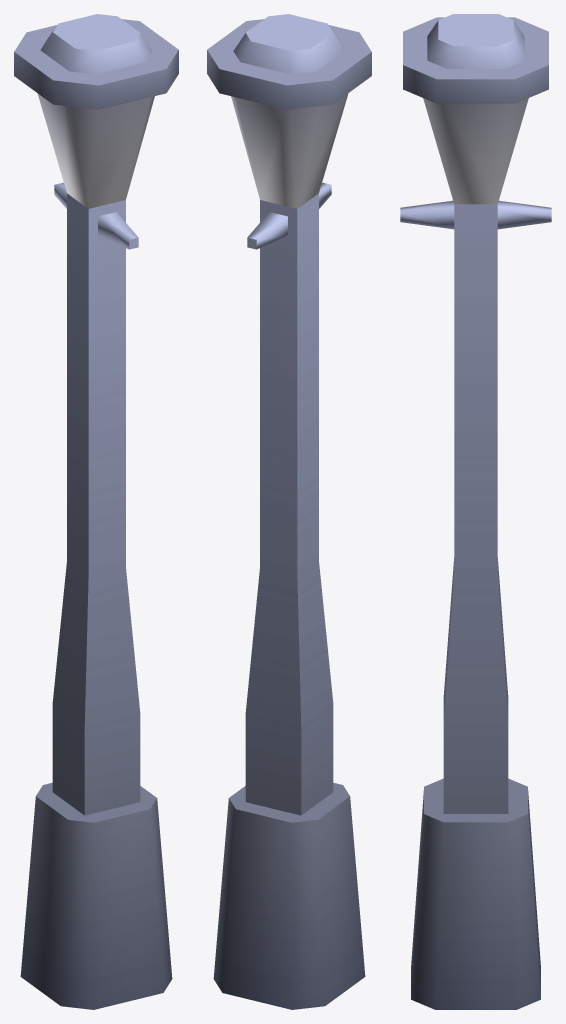
The model's file is lantern.fbx.
The picture shows the model from 3 angles, left to right: view 1: azimuth 30°, elevation 25°; view 2: azimuth 150°, elevation 25°; view 3: azimuth 270°, elevation 25°; orthographic projection.
Parts seen in each view (by area): view 1: lantern; view 2: lantern; view 3: lantern.
Boxes of the visible parts, bbox=[...] form: lantern: bbox=[14, 14, 178, 1009]; lantern: bbox=[207, 14, 371, 1009]; lantern: bbox=[400, 14, 551, 1009].
Bounding box in the file's own units: 21.64 × 156 × 22.43.
1 material, 1 textured.
